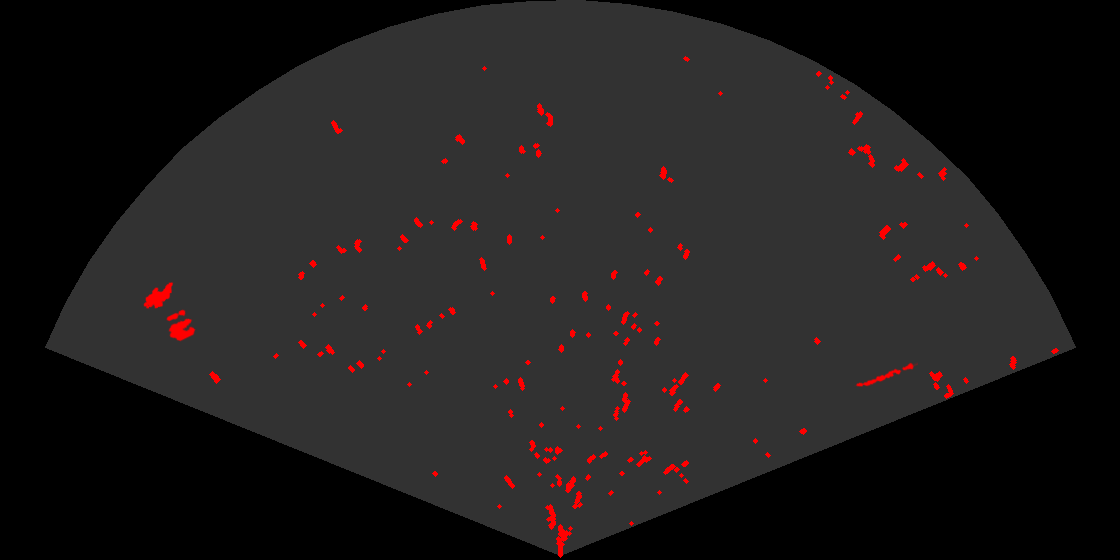AUV: (142, 280, 175, 310)
ball: (165, 308, 197, 343)
chain: (853, 361, 918, 388)
